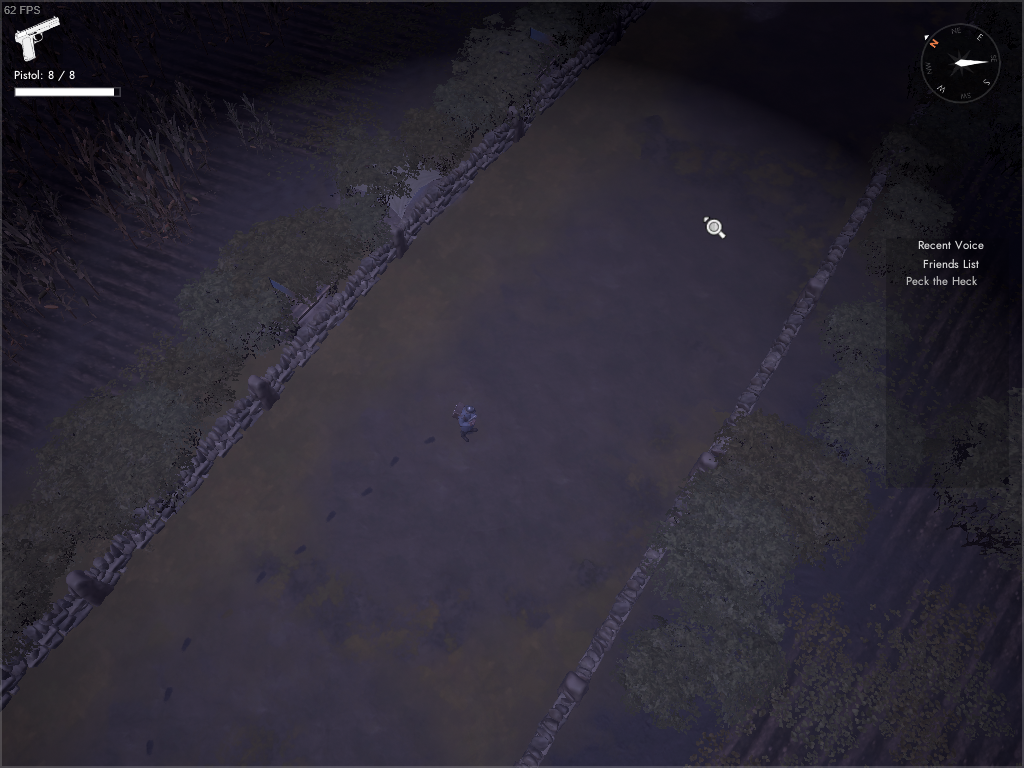foxhole: (323, 137, 457, 230)
pillbox: (453, 22, 570, 115), (242, 250, 348, 346)
player: (448, 396, 479, 446)
